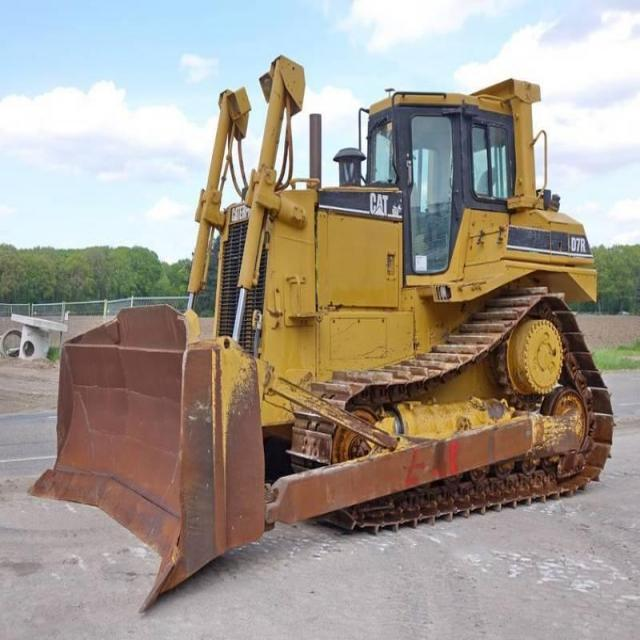Bulldozer: (35, 41, 639, 614)
